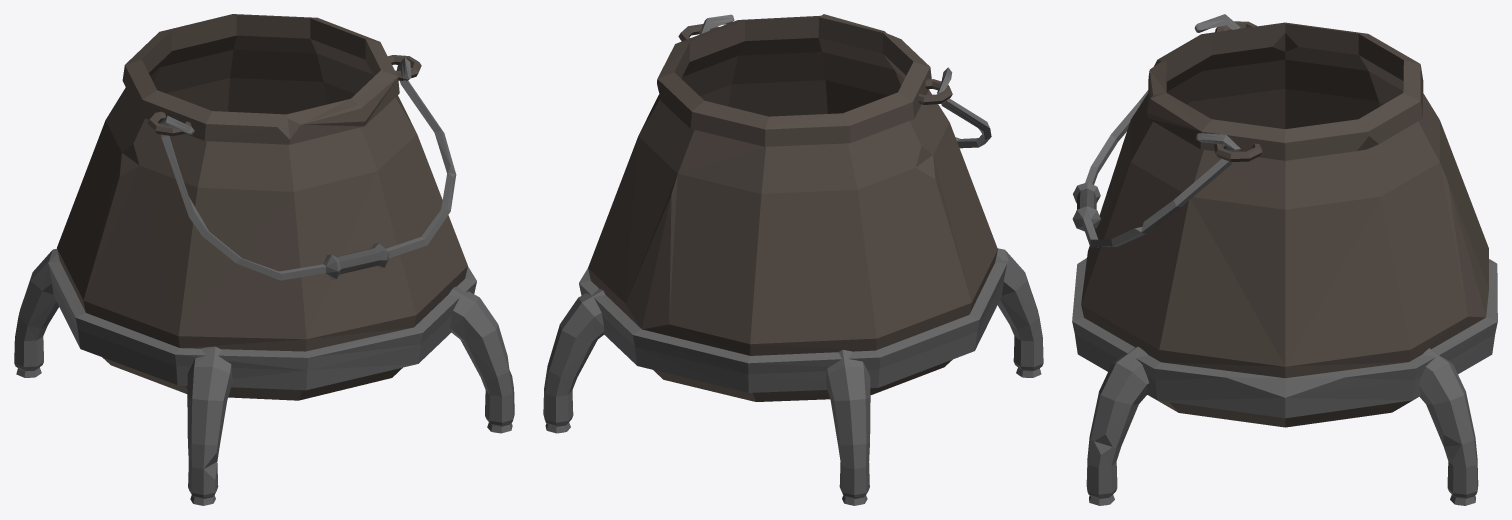
File: SFHW_Cauldron_001.fbx
3 views of the same model, side by side, from view 1: azimuth 30°, elevation 25°; view 2: azimuth 150°, elevation 25°; view 3: azimuth 270°, elevation 25° (orthographic). The views are drawn at different scales.
Visible parts, largest first — view 1: SFHW_Cauldron_001; view 2: SFHW_Cauldron_001; view 3: SFHW_Cauldron_001.
Boxes of the visible parts, box(x1,y1,x2,y2) form: SFHW_Cauldron_001: box(14, 14, 514, 505); SFHW_Cauldron_001: box(543, 14, 1043, 505); SFHW_Cauldron_001: box(1072, 14, 1497, 505).
Size of the model in its own units: 92.44 by 80.86 by 89.2.
